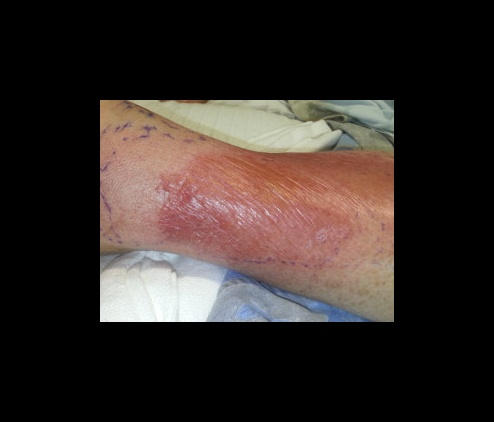SJS-TEN: (69, 88, 429, 331)
